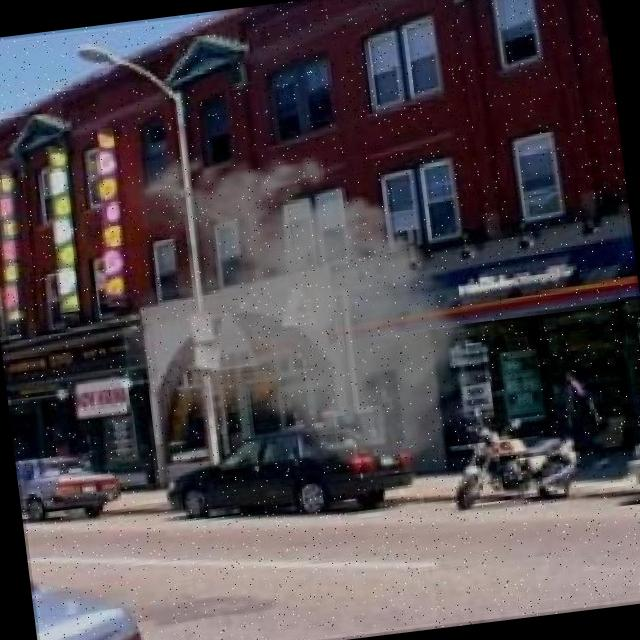Smoke: (168, 136, 468, 484)
